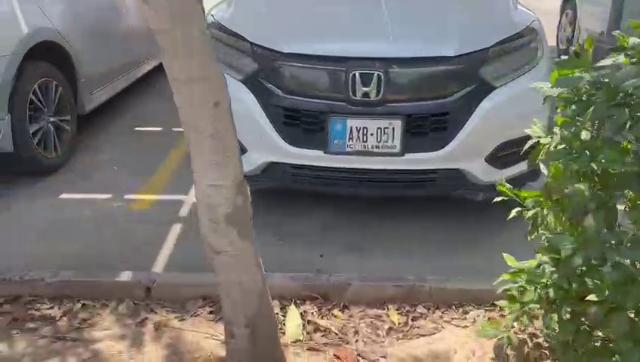plate: (328, 114, 402, 156)
